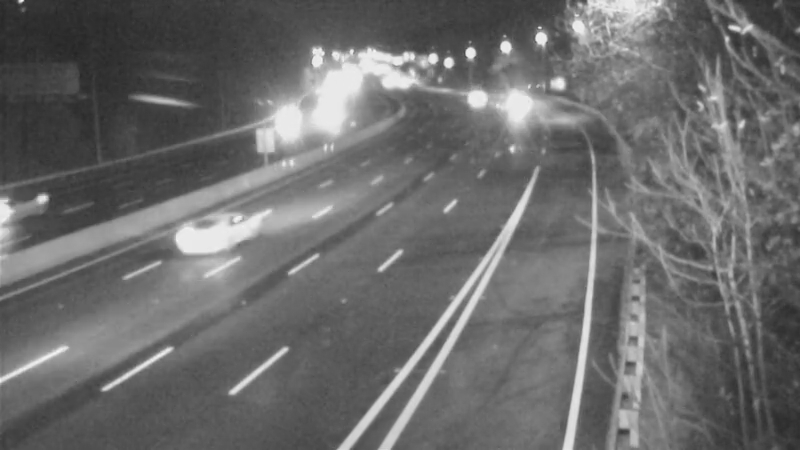vehicle: (183, 182, 263, 262), (1, 170, 65, 250), (503, 78, 553, 128), (448, 67, 498, 117), (255, 98, 305, 148), (299, 91, 349, 141)
